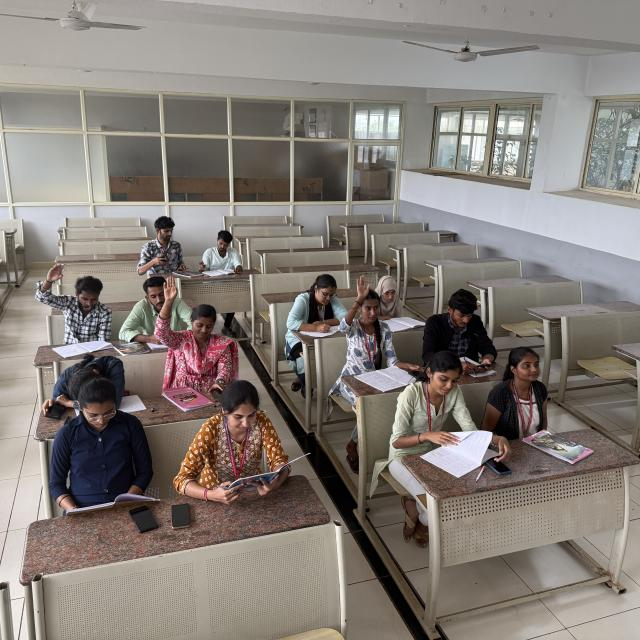Hand Rising: (159, 276, 229, 381), (32, 262, 116, 341), (346, 274, 390, 367)
Reading: (62, 379, 157, 512), (224, 379, 309, 488), (398, 356, 483, 462), (378, 276, 418, 330)
Sleeping: (60, 353, 128, 408)
Writing: (285, 273, 344, 336), (198, 229, 242, 275)
